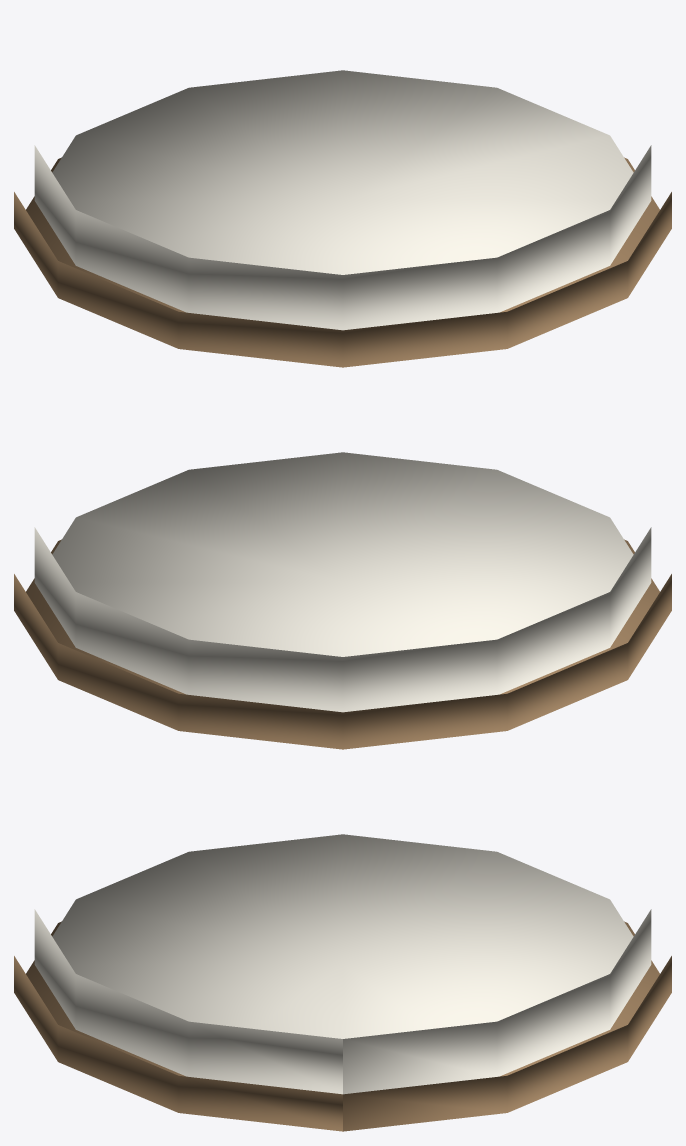
File: clock.glb
The picture shows the model from 3 angles, top to bottom: view 1: azimuth 30°, elevation 25°; view 2: azimuth 150°, elevation 25°; view 3: azimuth 270°, elevation 25°; orthographic projection.
Parts seen in each view (by area): view 1: face, frame; view 2: face, frame; view 3: face, frame.
Boxes of the visible parts, <box> form: face: <box>34,70,651,330</box>; frame: <box>14,157,671,367</box>; face: <box>34,452,651,712</box>; frame: <box>14,539,671,749</box>; face: <box>34,834,651,1094</box>; frame: <box>14,921,671,1131</box>.
Bounding box in the file's own units: 0.32 × 0.045 × 0.32.
